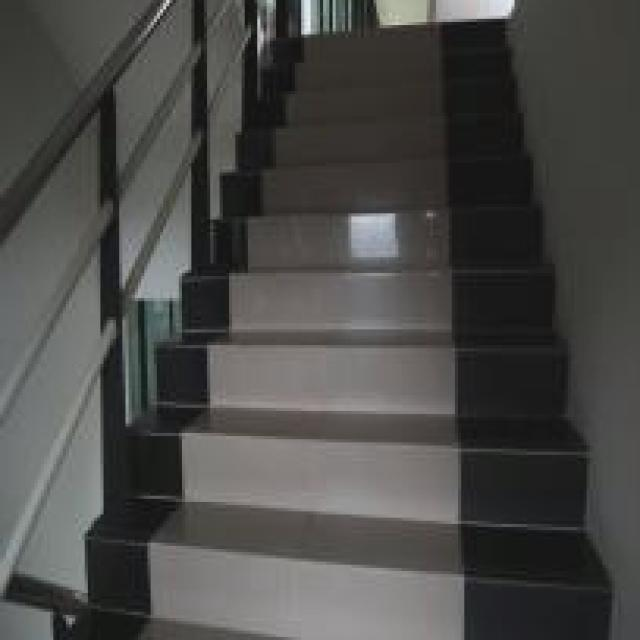upstair: (239, 64, 544, 585)
